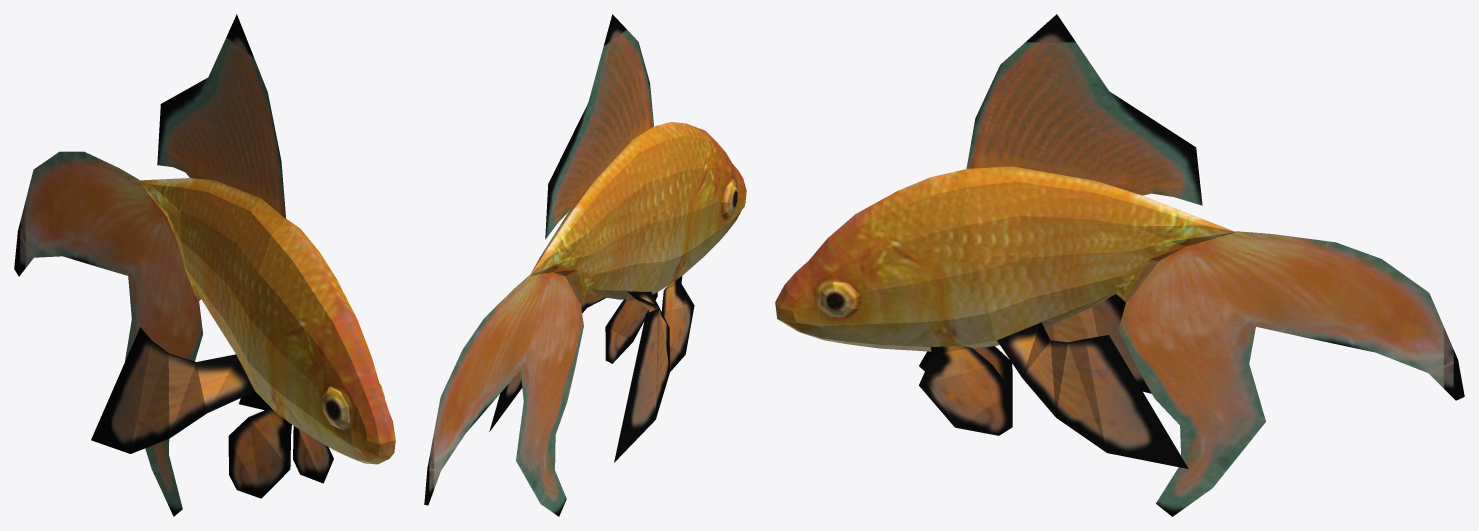
File: goldfish.obj
The picture shows the model from 3 angles, left to right: view 1: azimuth 30°, elevation 25°; view 2: azimuth 150°, elevation 25°; view 3: azimuth 270°, elevation 25°; orthographic projection. The views are drawn at different scales.
Visible parts, largest first — view 1: Circle; view 2: Circle; view 3: Circle.
Boxes of the visible parts, x1,y1,x2,y2 form: Circle: [14, 14, 395, 516]; Circle: [424, 14, 746, 516]; Circle: [775, 14, 1464, 516].
Bounding box in the file's own units: 2.18 × 7.27 × 9.03.
